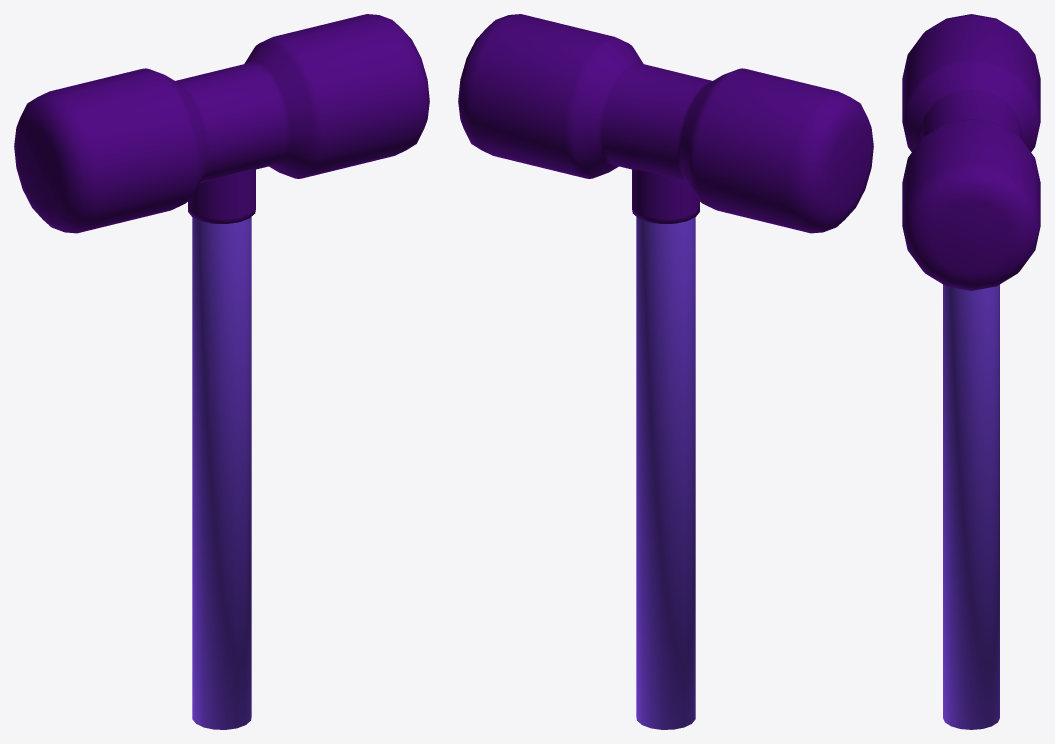
Rendered from hemer_violet.fbx.
3 renders of one model, left to right at view 1: azimuth 30°, elevation 25°; view 2: azimuth 150°, elevation 25°; view 3: azimuth 270°, elevation 25°, orthographic. The views are drawn at different scales.
Parts seen in each view (by area): view 1: hemer_violet; view 2: hemer_violet; view 3: hemer_violet.
Boxes of the visible parts, x1=… form: hemer_violet: x1=14, y1=14, x2=429, y2=729; hemer_violet: x1=458, y1=14, x2=873, y2=729; hemer_violet: x1=902, y1=14, x2=1040, y2=729.
Size of the model in its own units: 0.7089 by 1.23 by 0.2449.
